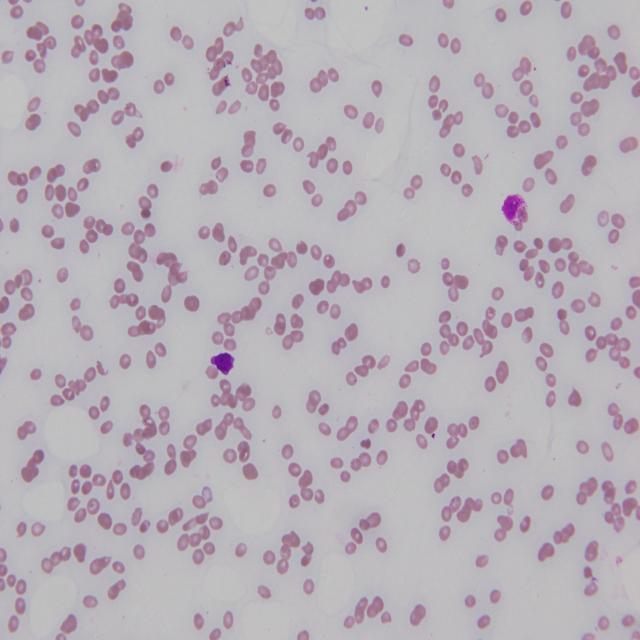cell: (501, 194, 529, 231), (211, 352, 234, 375)
